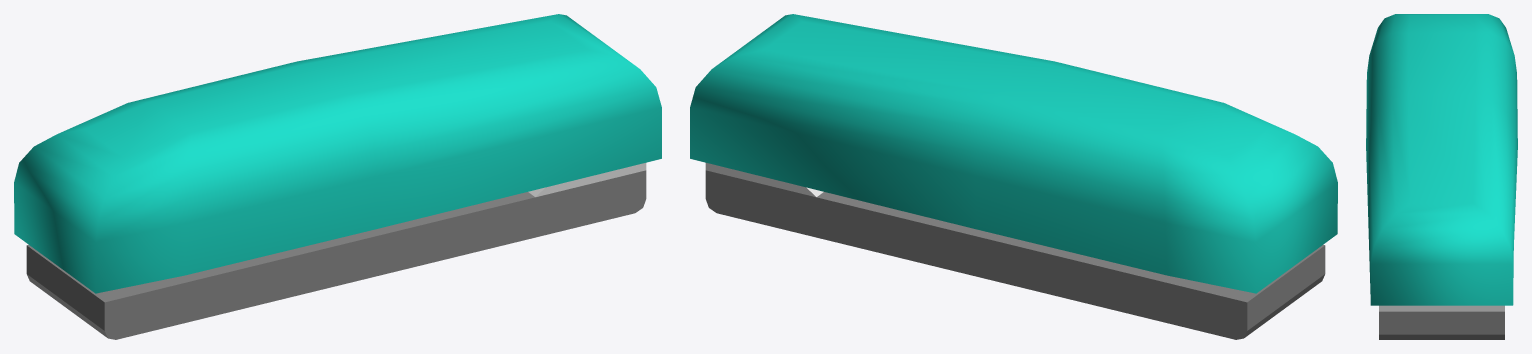
The model's file is Stapler.fbx.
The picture shows the model from 3 angles, left to right: view 1: azimuth 30°, elevation 25°; view 2: azimuth 150°, elevation 25°; view 3: azimuth 270°, elevation 25°; orthographic projection. The views are drawn at different scales.
Visible parts, largest first — view 1: Stapler; view 2: Stapler; view 3: Stapler.
Boxes of the visible parts, left/top/right/bottom form: Stapler: left=14, top=14, right=661, bottom=339; Stapler: left=690, top=14, right=1337, bottom=339; Stapler: left=1366, top=14, right=1517, bottom=339.
Bounding box in the file's own units: 14.18 × 4.13 × 4.1.
